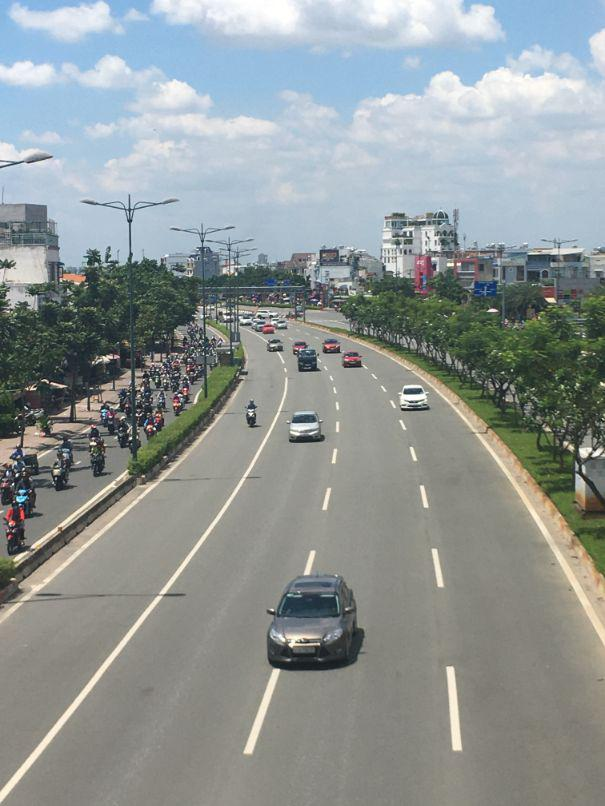car: (265, 573, 364, 671), (286, 409, 324, 443), (401, 383, 429, 411), (342, 351, 363, 368), (322, 339, 339, 354)
motorbike: (3, 504, 27, 556), (246, 397, 258, 425)
truck: (296, 349, 318, 371)
